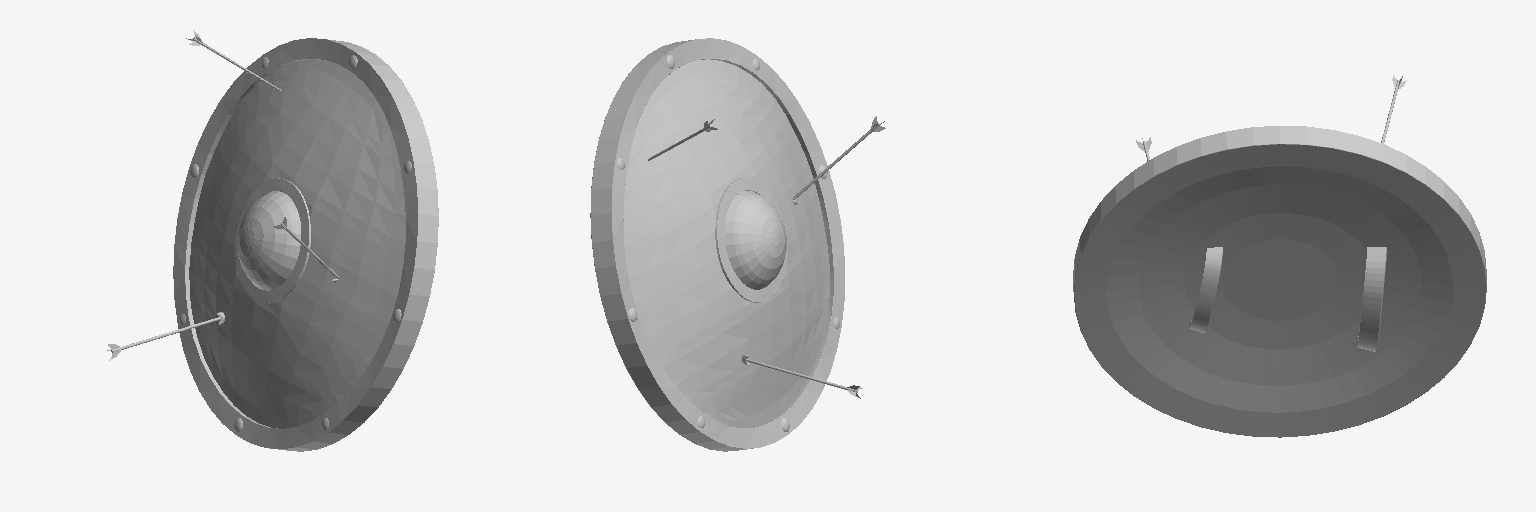
File: sheild.obj
3 renders of one model, left to right at view 1: azimuth 30°, elevation 25°; view 2: azimuth 150°, elevation 25°; view 3: azimuth 270°, elevation 25°, orthographic.
Visible parts, largest first — view 1: Sheild_sheild; view 2: Sheild_sheild; view 3: Sheild_sheild.
Part boxes in pixels (bbox=[...]): Sheild_sheild: bbox=[107, 30, 438, 451]; Sheild_sheild: bbox=[590, 38, 885, 451]; Sheild_sheild: bbox=[1073, 75, 1486, 437].
Size of the model in its own units: 4.4 by 6.32 by 6.53.